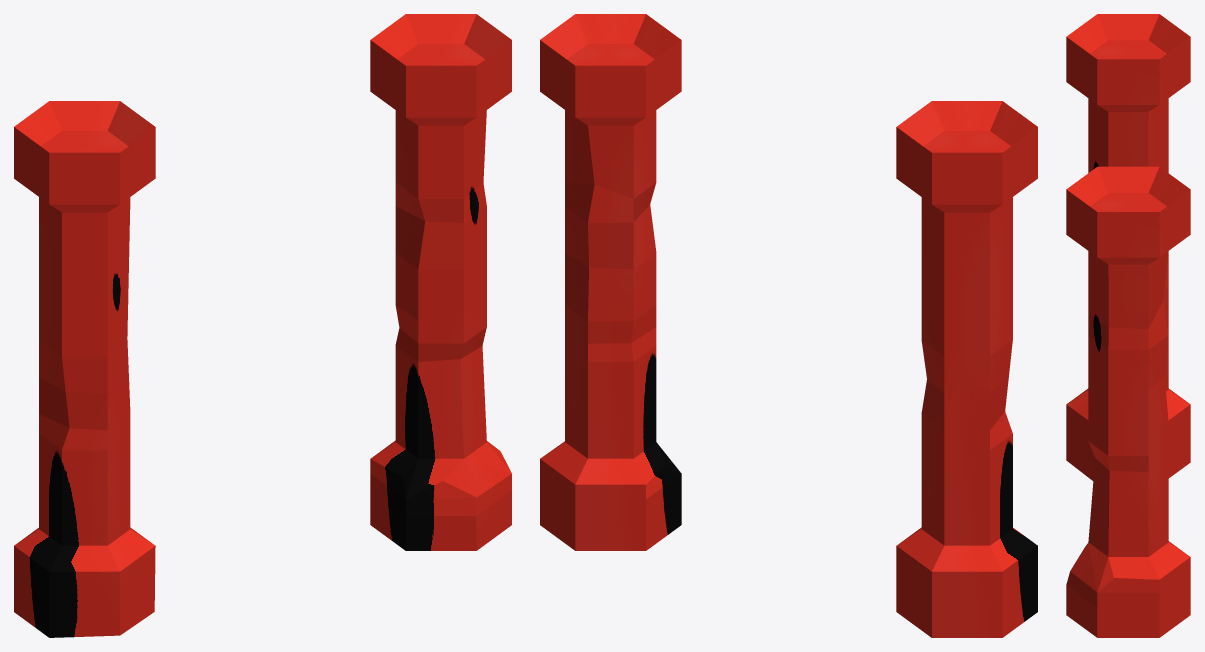
File: 障碍物2(1).fbx
The picture shows the model from 3 angles, left to right: view 1: azimuth 30°, elevation 25°; view 2: azimuth 150°, elevation 25°; view 3: azimuth 270°, elevation 25°; orthographic projection. The views are drawn at different scales.
Visible parts, largest first — view 1: 平面.037; view 2: 平面.037; view 3: 平面.037.
Boxes of the visible parts, x1,y1,x2,y2 form: 平面.037: [14, 14, 511, 637]; 平面.037: [540, 14, 1037, 637]; 平面.037: [1066, 14, 1190, 637].
Bounding box in the file's own units: 446 × 447 × 118.
